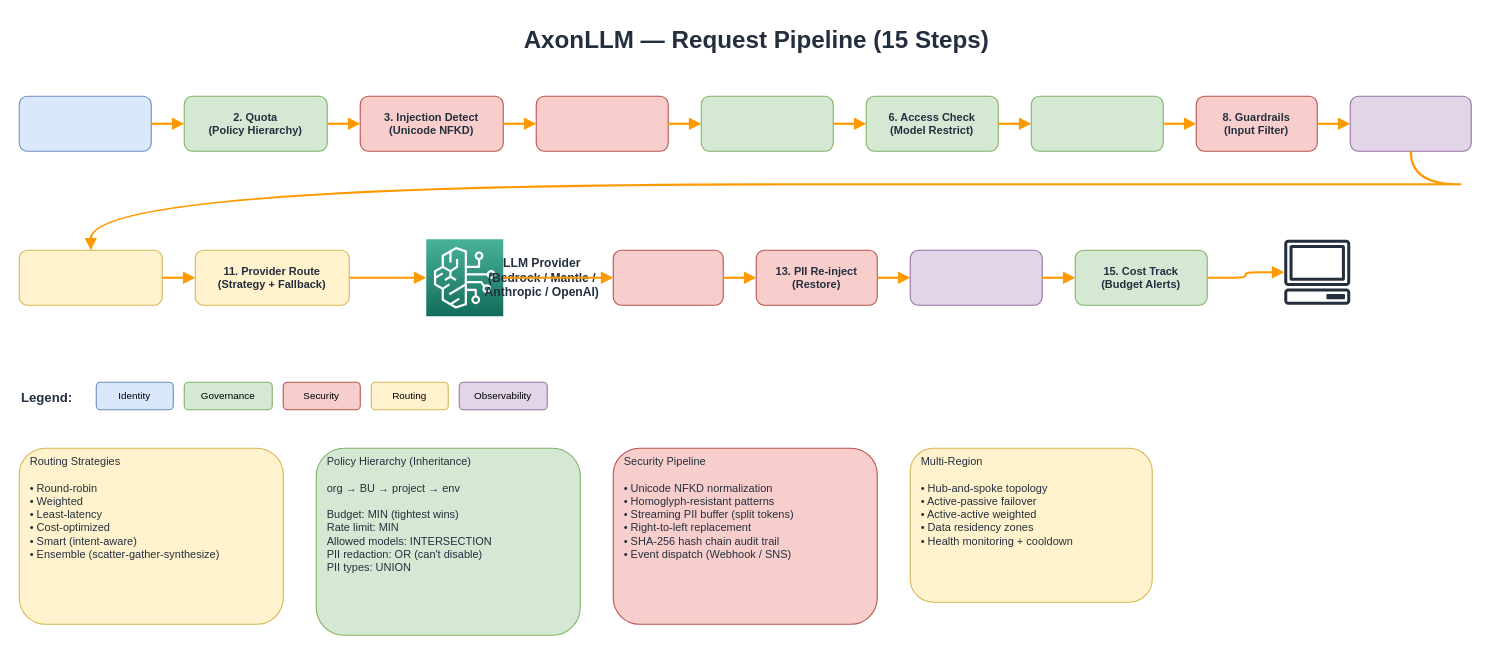
Some shapes in this 1491 by 655 pixel diagram are drawn without their labels. Each missing label, with the centre of its shape:
1. Auth (OIDC / API Key): point (84, 123)
10. Region Route (Hub → Spoke): point (90, 277)
12. Output Guardrails: point (667, 277)
14. Audit Trail (SHA-256 Chain): point (975, 277)
4. PII Redaction (Tokenize): point (601, 123)
5. Rate Limit (Sliding Window): point (766, 123)
7. Budget Check (Spend Limits): point (1096, 123)
9. Cache (LRU Lookup): point (1410, 123)
Response: point (1317, 272)
